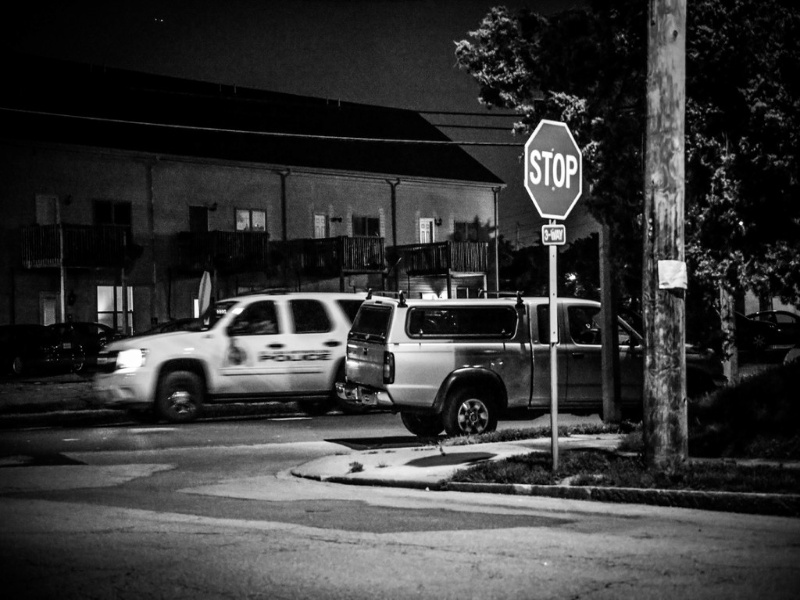stop: (519, 117, 586, 220)
